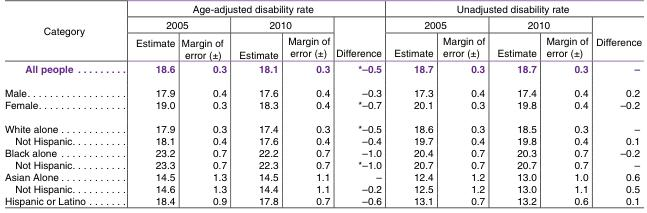table: (4, 4, 641, 206)
table column: (4, 4, 109, 206), (109, 4, 177, 206), (177, 4, 232, 206), (332, 4, 387, 206), (437, 4, 490, 206), (540, 4, 591, 206), (232, 4, 282, 206), (282, 4, 332, 206), (387, 4, 437, 206), (490, 4, 540, 206), (591, 4, 641, 206)
table column header: (4, 4, 641, 62)
table row: (4, 33, 641, 62), (4, 62, 641, 81), (4, 81, 641, 99), (4, 99, 641, 117), (4, 117, 641, 135), (4, 17, 641, 33), (4, 4, 641, 17), (4, 135, 641, 147), (4, 147, 641, 159), (4, 159, 641, 171), (4, 171, 641, 183), (4, 183, 641, 195), (4, 195, 641, 206)
table spanning cell: (4, 4, 109, 62), (109, 4, 387, 17), (387, 4, 641, 17), (332, 17, 387, 62), (591, 17, 641, 62), (109, 17, 232, 33), (387, 17, 490, 33), (490, 17, 591, 33), (232, 17, 332, 33)
